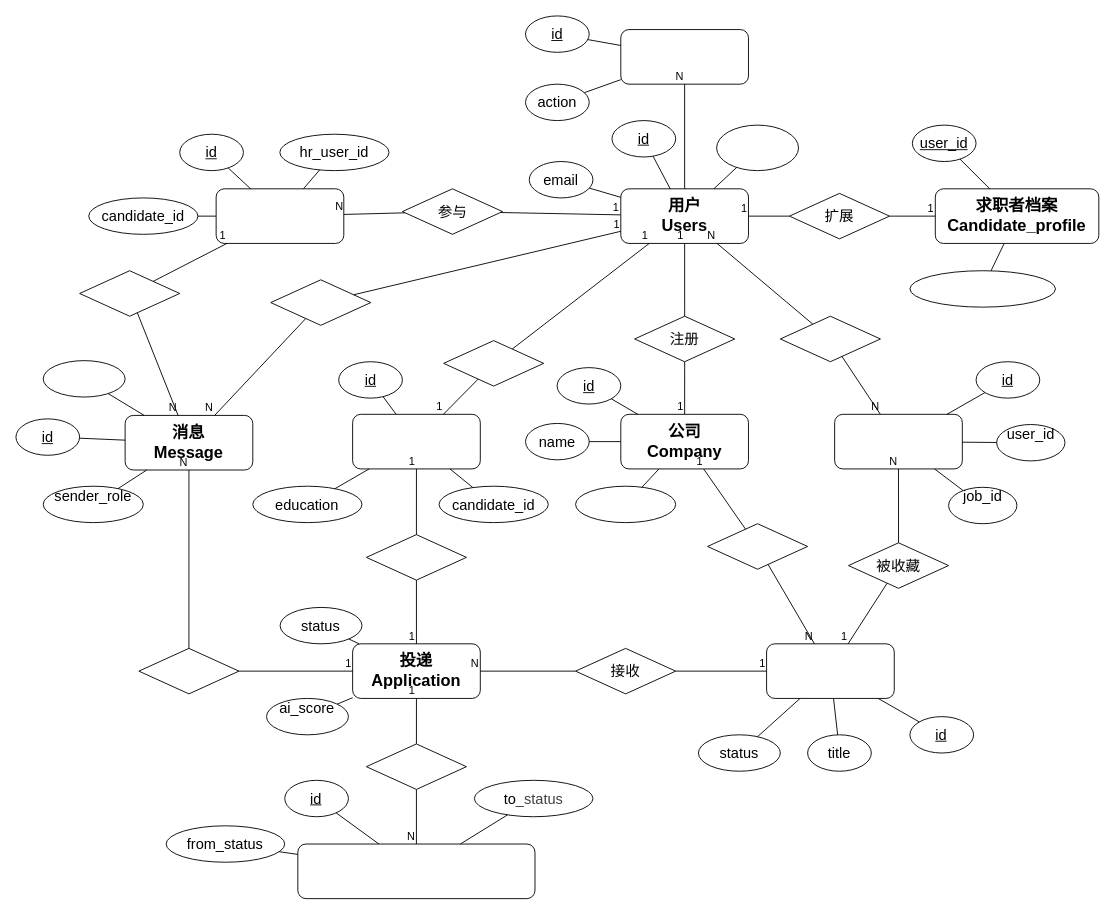
This 1115x915 diagram has some shape labels left out. The shapes that lost their labels are listed below. From the top down, each one's centre as x and y in pixels, then its label:
At point (684, 56): "审计日志 audit_log".
At point (757, 147): "role_code".
At point (279, 215): "会话 Conversation".
At point (129, 293): "包含".
At point (320, 302): "发送".
At point (982, 288): "expected_position".
At point (829, 338): "收藏".
At point (83, 378): "content".
At point (493, 363): "创建".
At point (416, 441): "简历 R esume".
At point (898, 441): "职位收藏 F avorate_job".
At point (625, 504): "auth_status".
At point (415, 557): "快照引用".
At point (757, 546): "发布".
At point (188, 670): "关联".
At point (830, 670): "职位 Job".
At point (415, 766): "记录".
At point (416, 871): "状态时间线 Application_status_history".
